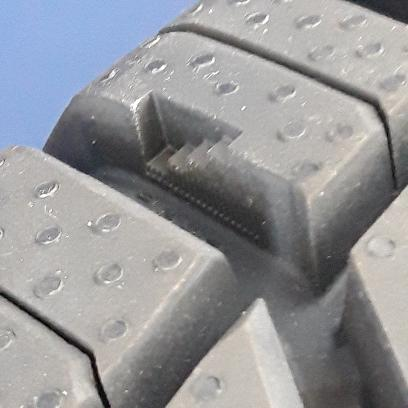temoin:100: (128, 86, 268, 247)
